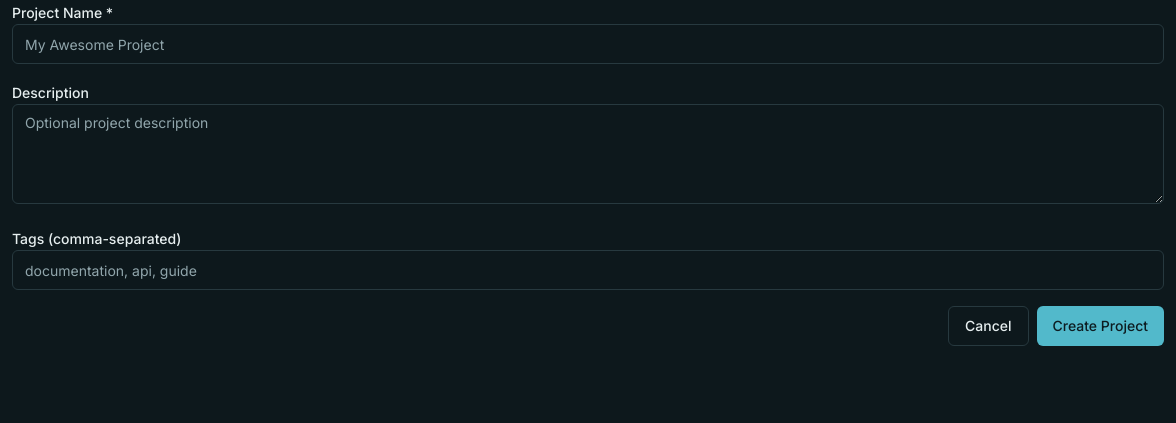
Scenario: ProjectForm › displays a fallback error when the rejection is not an Error
Type "Boom" into the field labelled "Project Name *" at (588, 44), box [12,24,1164,64]
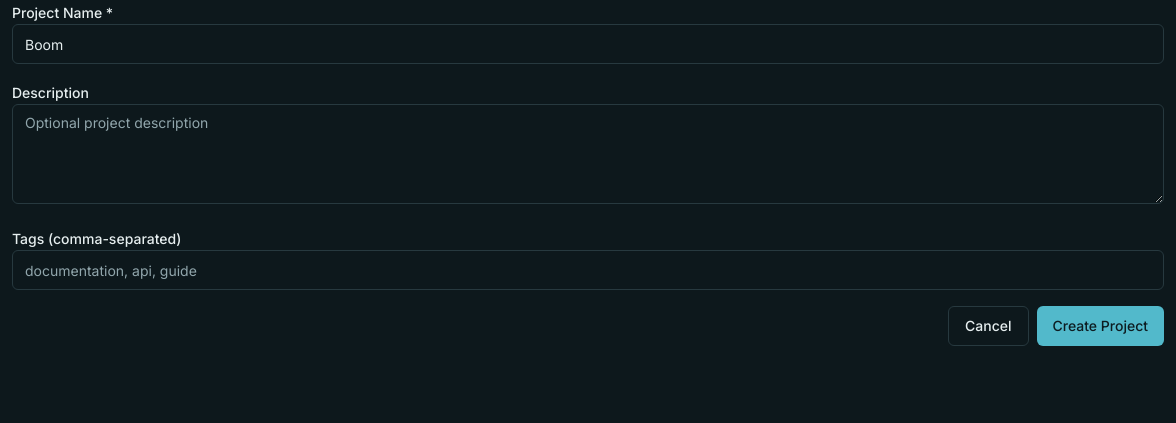
Click the button "Create Project" at (1100, 326), box [1036,306,1164,346]
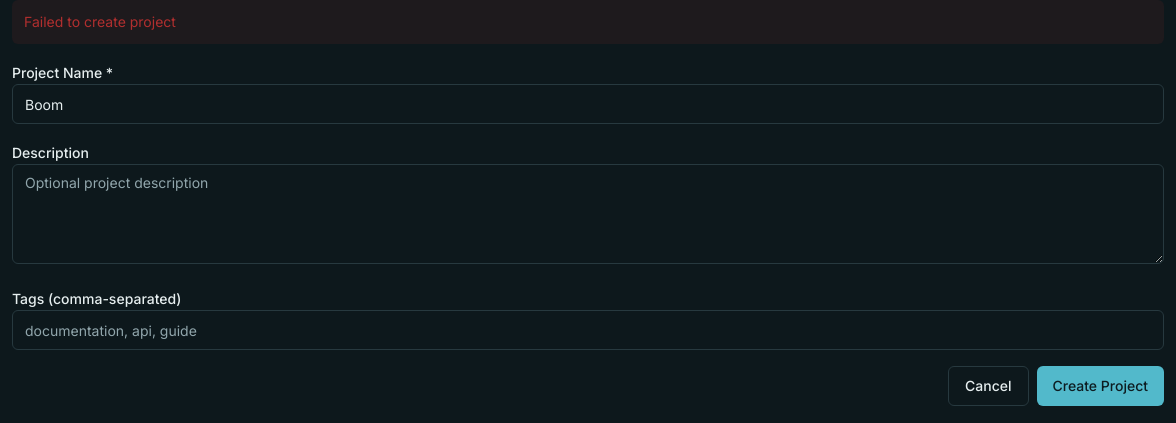
Now the text "Failed to create project" is shown, box [12,0,1164,44]
